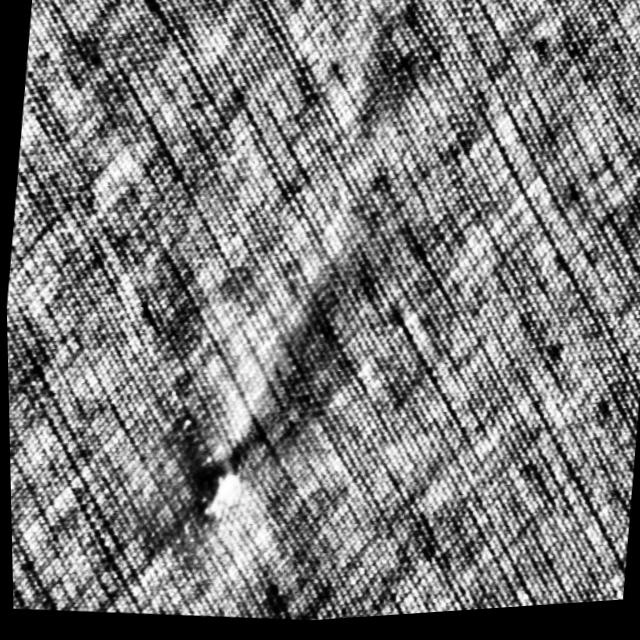Hole: (191, 460, 243, 528)
